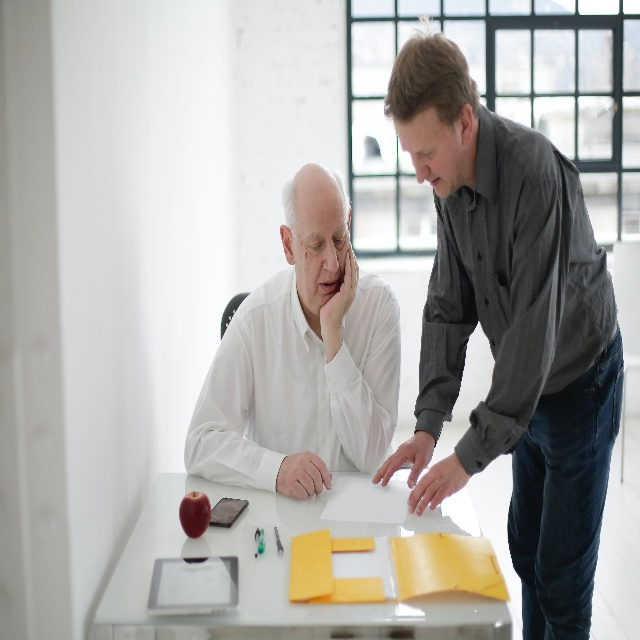Sin_guantes: (407, 451, 470, 516), (372, 430, 436, 489), (319, 241, 358, 334), (277, 450, 333, 500)
